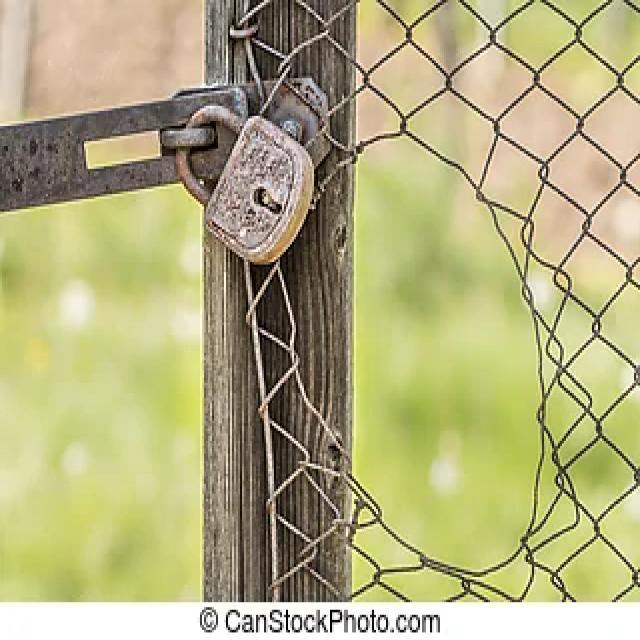fence line: (276, 131, 546, 575)
